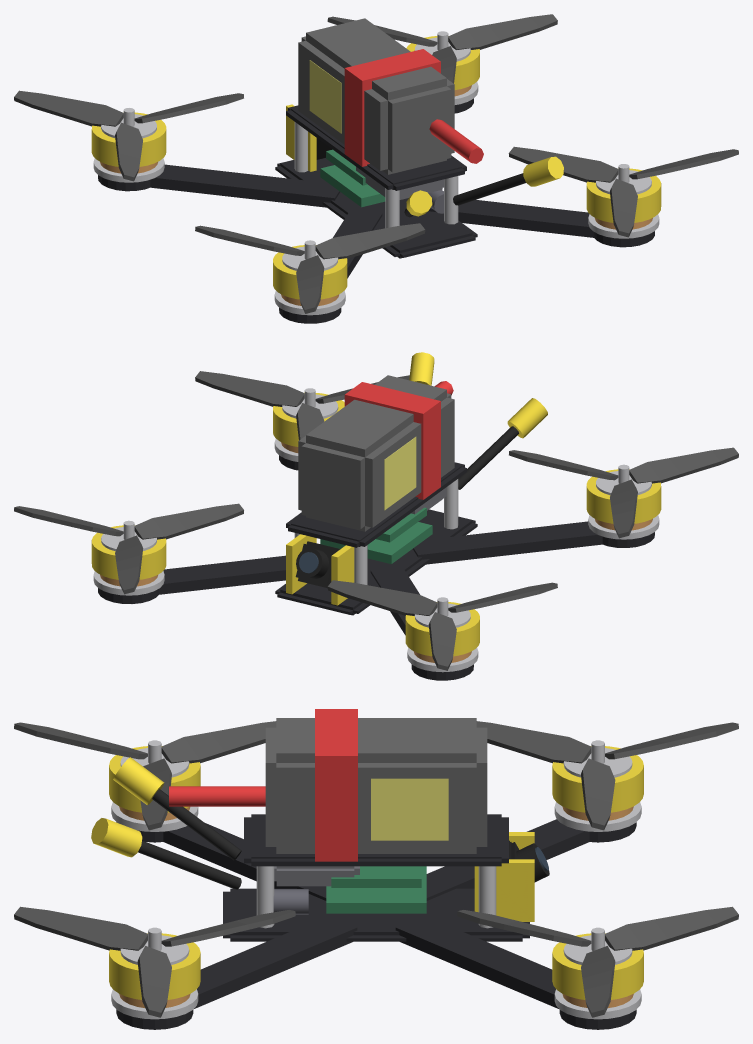
The model's file is freestyle35.glb.
3 views of the same model, one above another, from view 1: azimuth 30°, elevation 25°; view 2: azimuth 150°, elevation 25°; view 3: azimuth 270°, elevation 25° (orthographic). The views are drawn at different scales.
Parts seen in each view (by area): view 1: body, prop_RL, prop_FL, prop_RR, prop_FR, cam_mount; view 2: body, prop_RL, prop_FR, prop_FL, prop_RR, cam_mount, fpv_cam; view 3: body, prop_FR, prop_RR, prop_FL, prop_RL, cam_mount, fpv_cam.
Boxes of the visible parts, x1,y1,x2,y2 form: body: [91, 18, 661, 323]; prop_RL: [195, 223, 425, 313]; prop_FL: [14, 90, 243, 181]; prop_RR: [508, 146, 738, 237]; prop_FR: [327, 14, 557, 83]; cam_mount: [286, 104, 316, 171]; body: [91, 352, 661, 680]; prop_RL: [509, 447, 738, 538]; prop_FR: [14, 503, 243, 594]; prop_FL: [327, 580, 557, 670]; prop_RR: [195, 371, 409, 440]; cam_mount: [286, 534, 354, 605]; fpv_cam: [295, 541, 340, 587]; body: [91, 709, 643, 1029]; prop_FR: [457, 906, 738, 1017]; prop_RR: [14, 906, 295, 1017]; prop_FL: [476, 721, 738, 830]; prop_RL: [14, 721, 276, 830]; cam_mount: [474, 832, 534, 921]; fpv_cam: [509, 840, 549, 882].
Bounding box in the file's own units: 0.1922 × 0.0605 × 0.2028.
